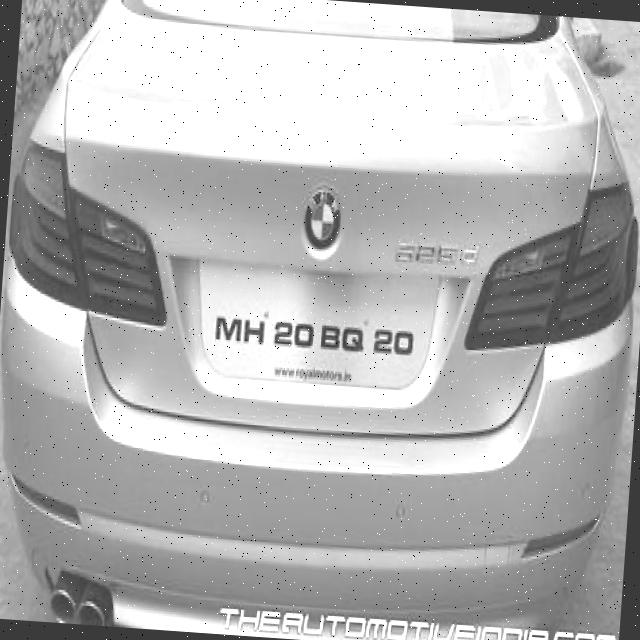Autre: (192, 262, 436, 394)
